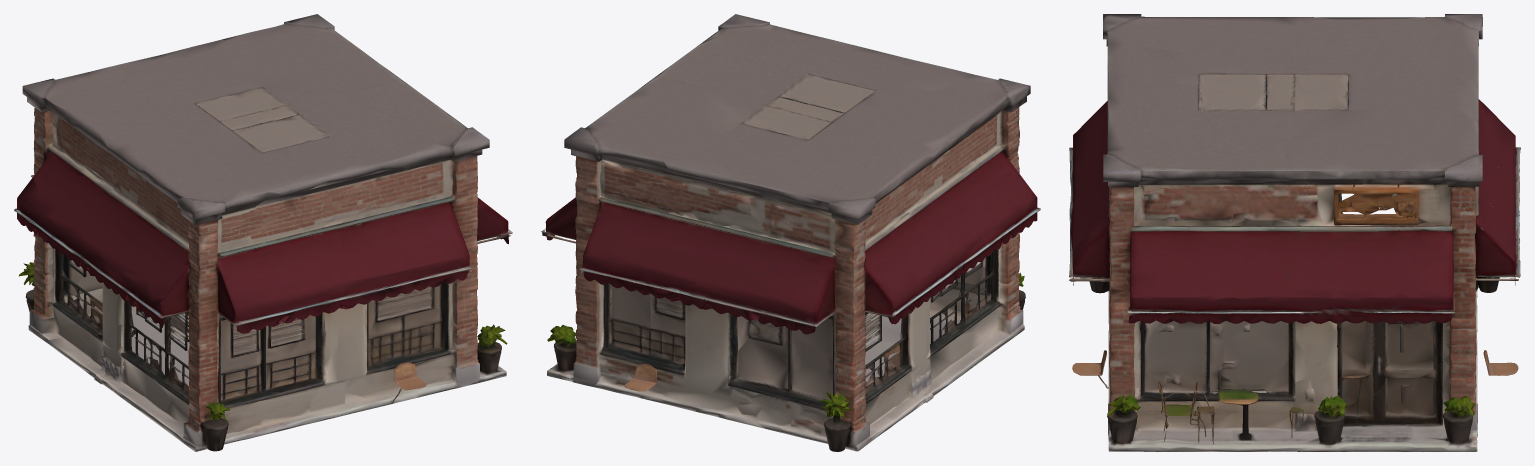
File: kafe.glb
The picture shows the model from 3 angles, left to right: view 1: azimuth 30°, elevation 25°; view 2: azimuth 150°, elevation 25°; view 3: azimuth 270°, elevation 25°; orthographic projection. The views are drawn at different scales.
Parts seen in each view (by area): view 1: tripo_node_5d3c04af-0882-4e63-80b0-10bb99ff9393; view 2: tripo_node_5d3c04af-0882-4e63-80b0-10bb99ff9393; view 3: tripo_node_5d3c04af-0882-4e63-80b0-10bb99ff9393.
Part boxes in pixels (bbox=[...]): tripo_node_5d3c04af-0882-4e63-80b0-10bb99ff9393: bbox=[14, 14, 512, 451]; tripo_node_5d3c04af-0882-4e63-80b0-10bb99ff9393: bbox=[541, 14, 1040, 451]; tripo_node_5d3c04af-0882-4e63-80b0-10bb99ff9393: bbox=[1069, 14, 1520, 451].
Size of the model in its own units: 0.9907 by 0.6537 by 0.9974.
1 material, 1 textured.
